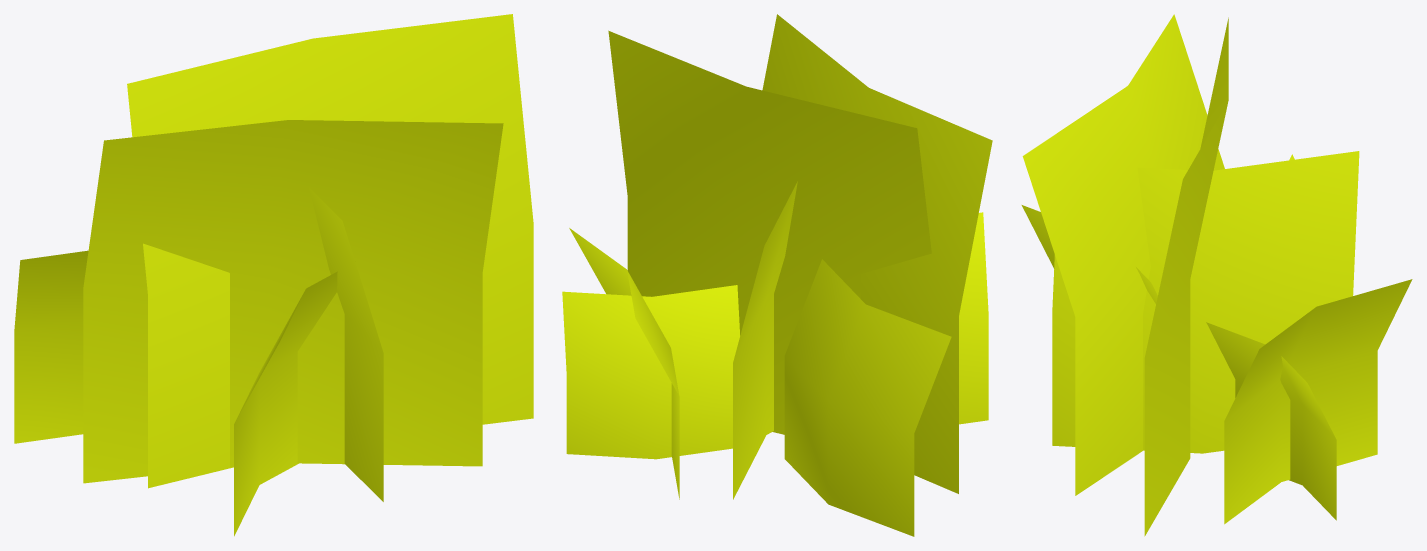
File: SM_Grass_A2.glb
3 renders of one model, left to right at view 1: azimuth 30°, elevation 25°; view 2: azimuth 150°, elevation 25°; view 3: azimuth 270°, elevation 25°, orthographic. The views are drawn at different scales.
Visible parts, largest first — view 1: SM_Grass_A2; view 2: SM_Grass_A2; view 3: SM_Grass_A2.
Boxes of the visible parts, x1=… form: SM_Grass_A2: x1=14, y1=14, x2=533, y2=536; SM_Grass_A2: x1=562, y1=14, x2=992, y2=536; SM_Grass_A2: x1=1021, y1=14, x2=1412, y2=536.
Bounding box in the file's own units: 2.34 × 2.01 × 1.98.
1 material, 1 textured.
